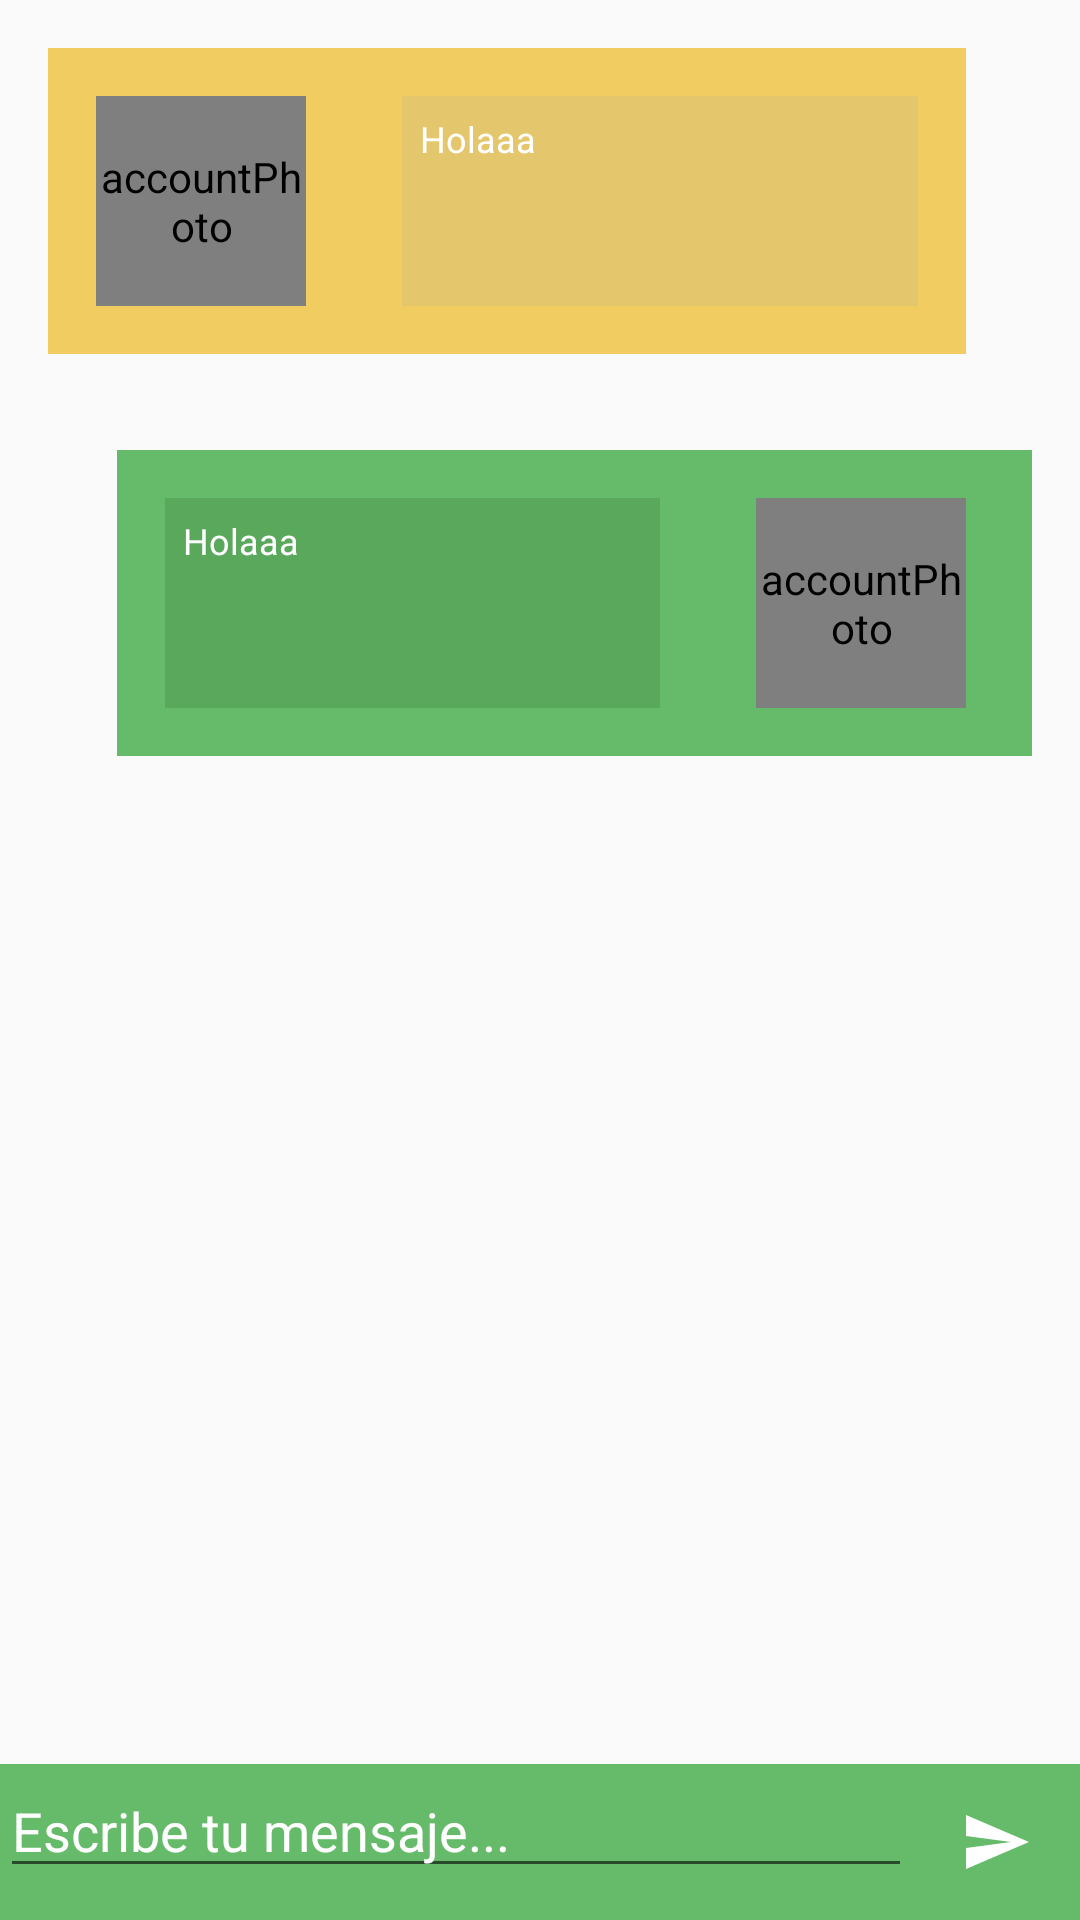

Named icons in this screenshot (1080px x 1920px) and their bounding boxes, {"left": x1, "top": y1, "right": x2, "bottom": y2}:
send: {"left": 966, "top": 1815, "right": 1029, "bottom": 1869}
